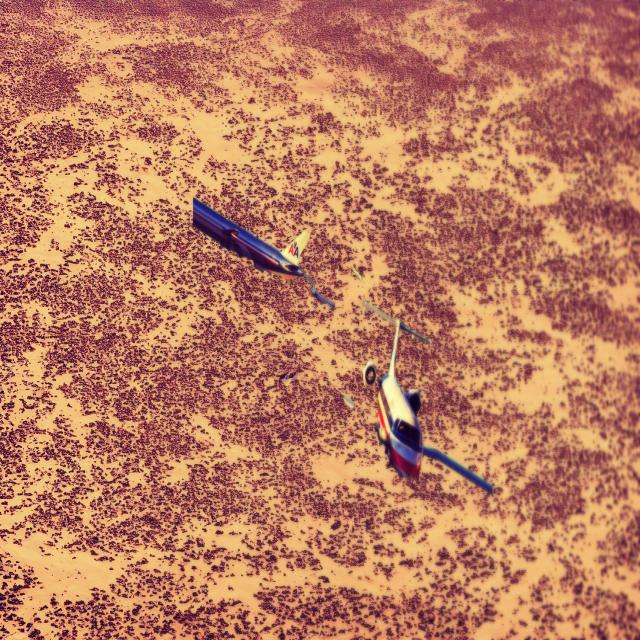airplane: (361, 299, 493, 494), (192, 195, 336, 310)
